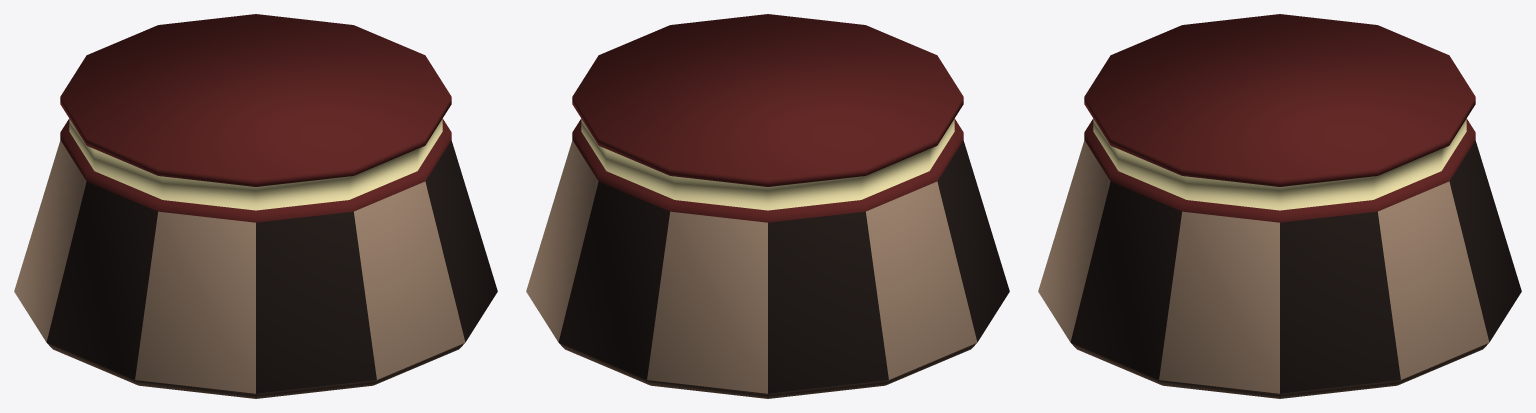
File: stand.fbx
The picture shows the model from 3 angles, left to right: view 1: azimuth 30°, elevation 25°; view 2: azimuth 150°, elevation 25°; view 3: azimuth 270°, elevation 25°; orthographic projection.
Visible parts, largest first — view 1: Stand; view 2: Stand; view 3: Stand.
Boxes of the visible parts, x1,y1,x2,y2 form: Stand: (14, 14, 497, 398); Stand: (526, 14, 1009, 398); Stand: (1038, 14, 1521, 398).
Bounding box in the file's own units: 214 × 99.01 × 214.
